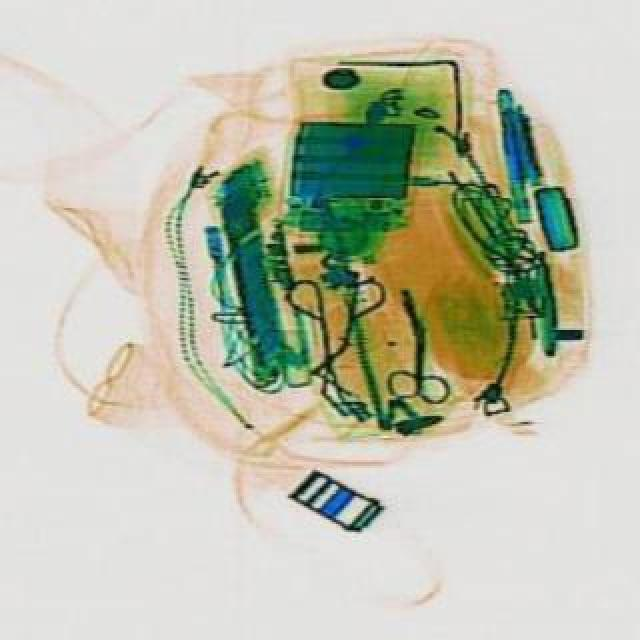pliers: (382, 328, 450, 410)
